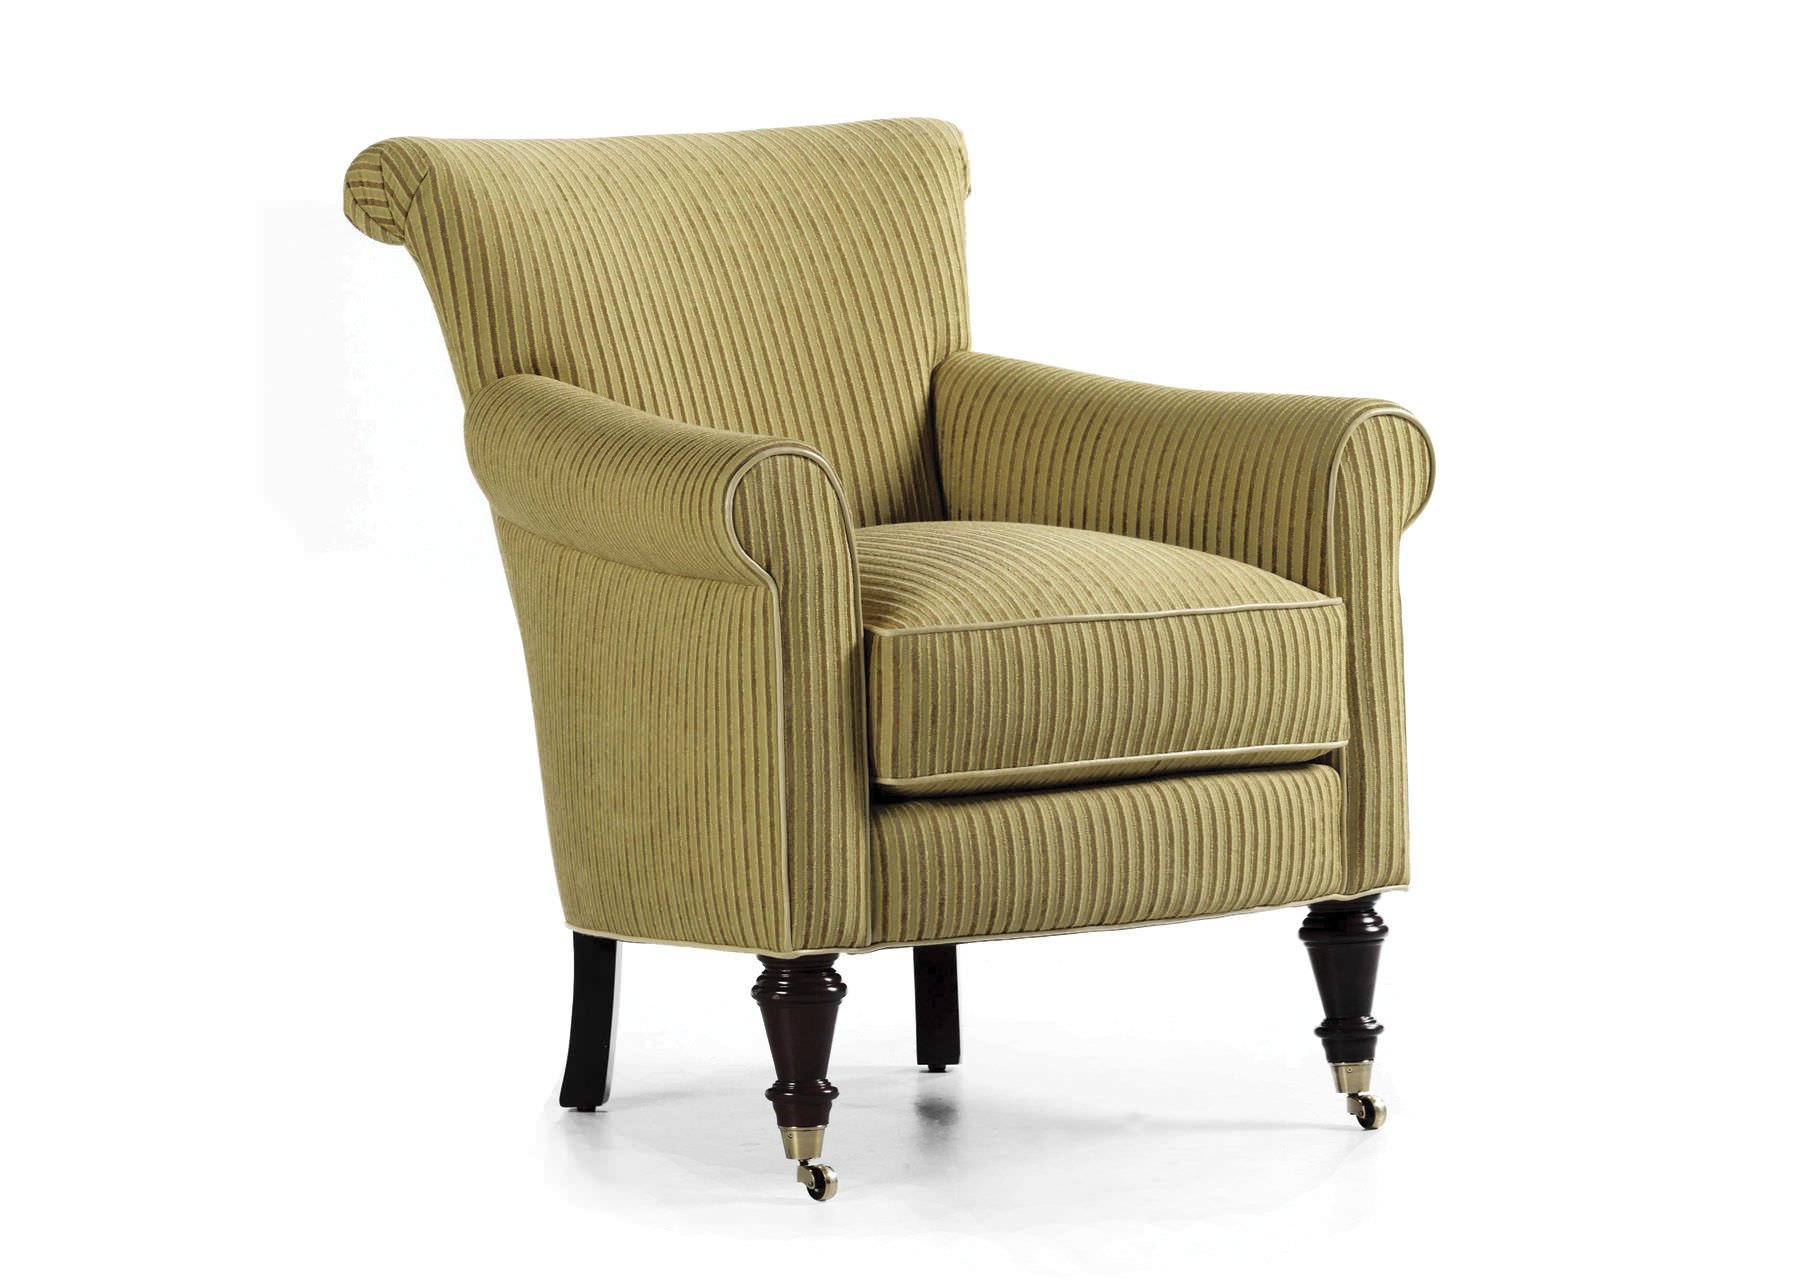chairs: (300, 100, 1444, 1215)
